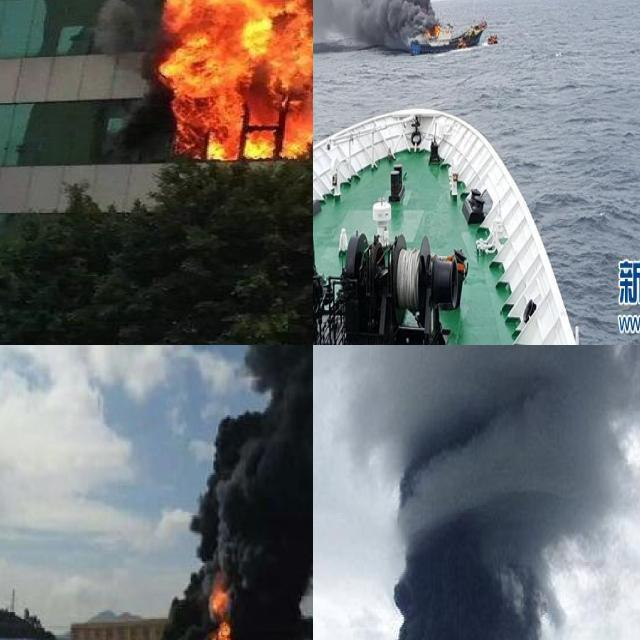fire: (155, 0, 313, 169), (207, 582, 231, 640), (426, 22, 440, 40)
smoke: (386, 345, 640, 640), (161, 345, 313, 640)
